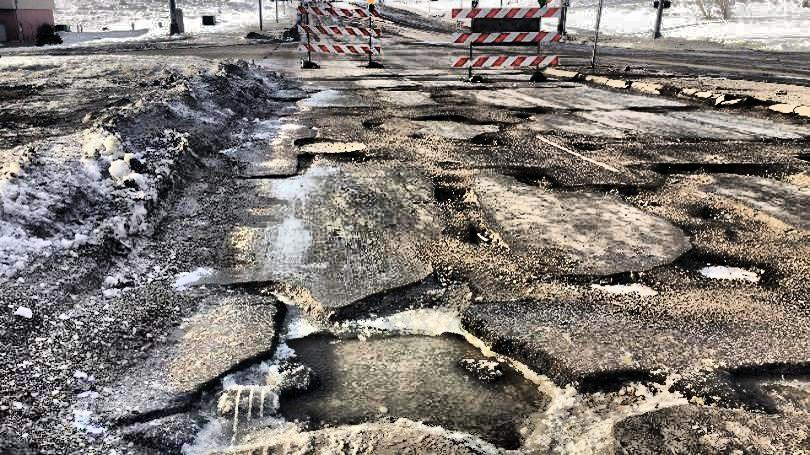pothole: (251, 293, 573, 455), (641, 146, 809, 231), (727, 358, 810, 422), (691, 253, 767, 291), (587, 274, 665, 301), (429, 177, 478, 211), (509, 167, 559, 190), (471, 131, 503, 149), (425, 111, 469, 123), (363, 120, 381, 130)
